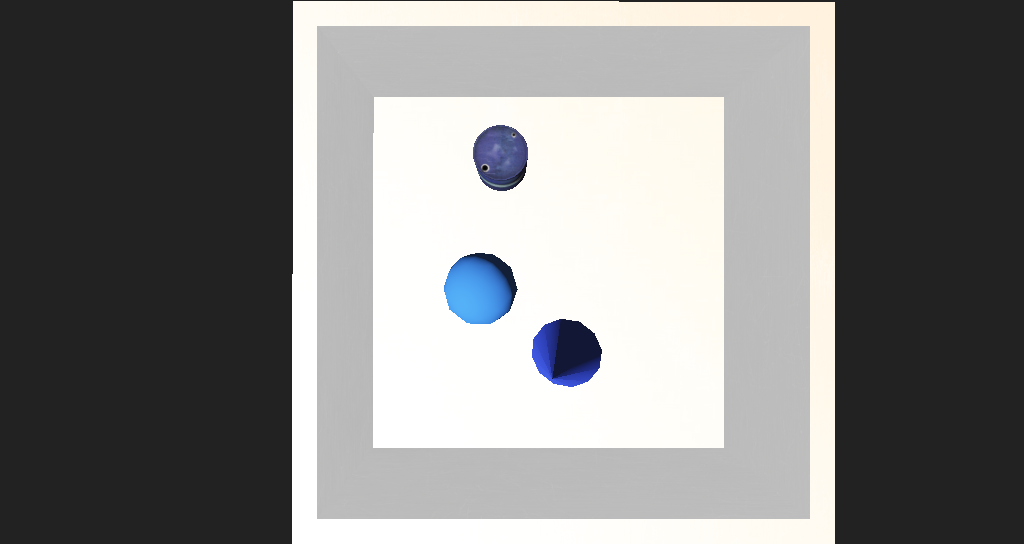cone: (441, 181, 488, 220)
cylinder: (475, 298, 563, 360)
sphere: (411, 253, 478, 301)
